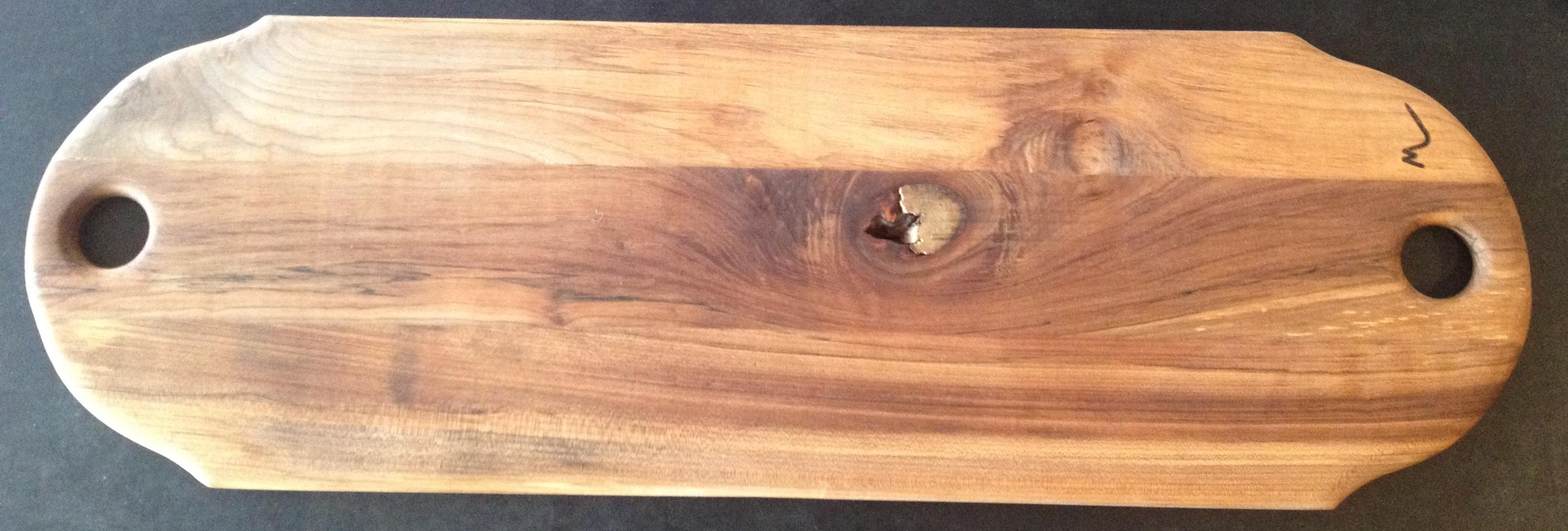gloved_hand: (1, 0, 531, 531)
